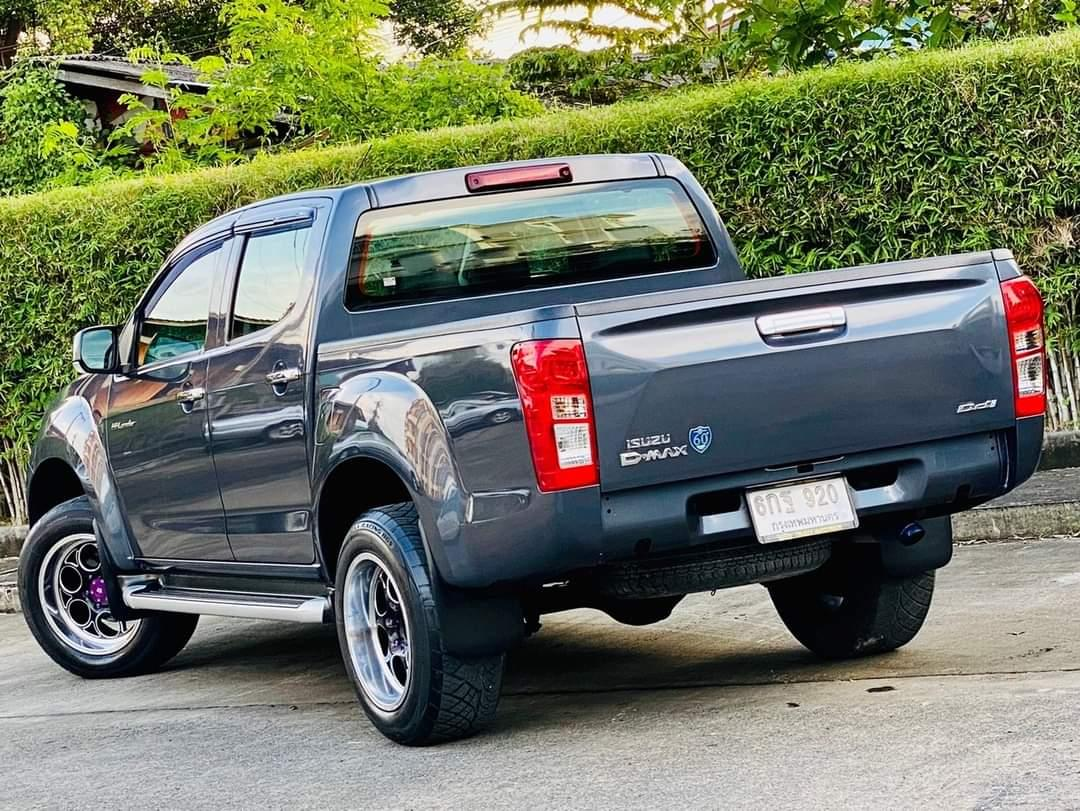license-plate: (740, 464, 867, 548)
